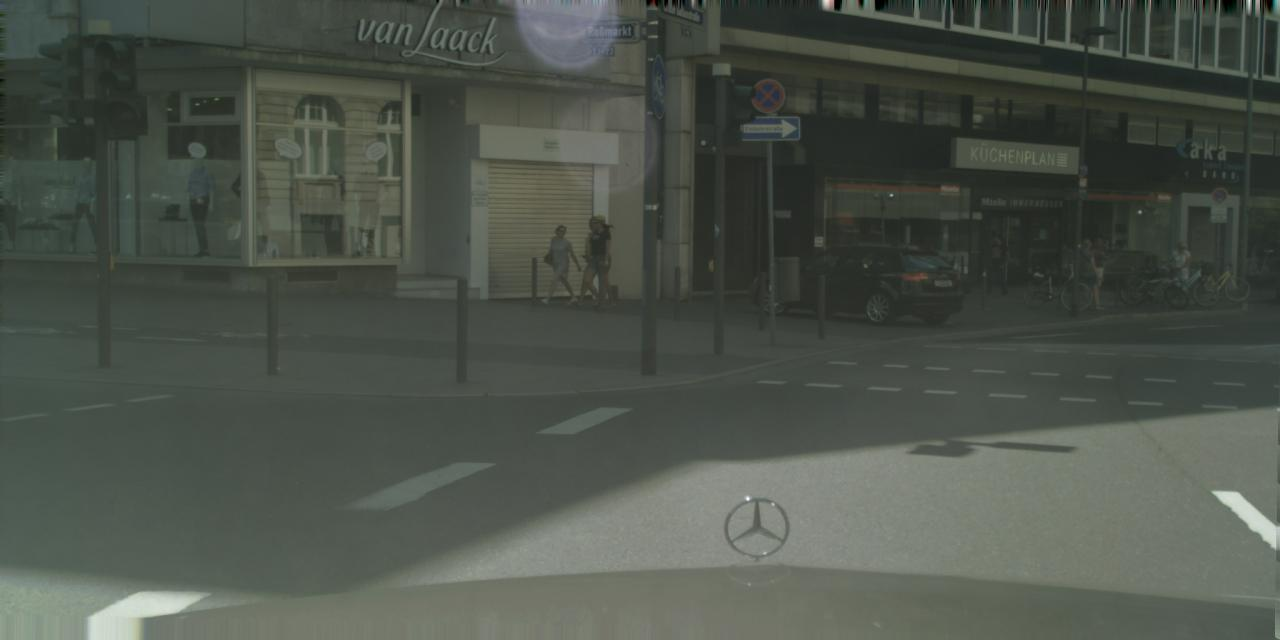ped: (580, 214, 619, 308), (574, 215, 612, 307), (542, 224, 576, 305), (1079, 234, 1109, 306), (1072, 239, 1099, 307), (984, 234, 1009, 297), (1169, 242, 1192, 297)
